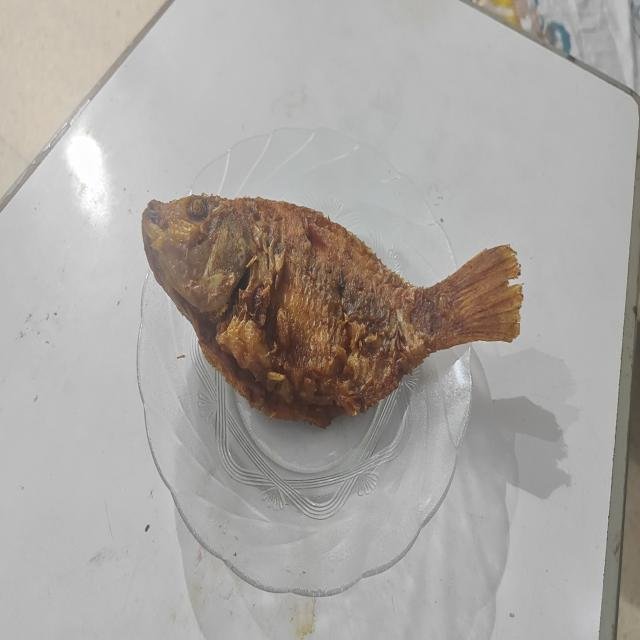ikan_mujair: (142, 193, 523, 427)
